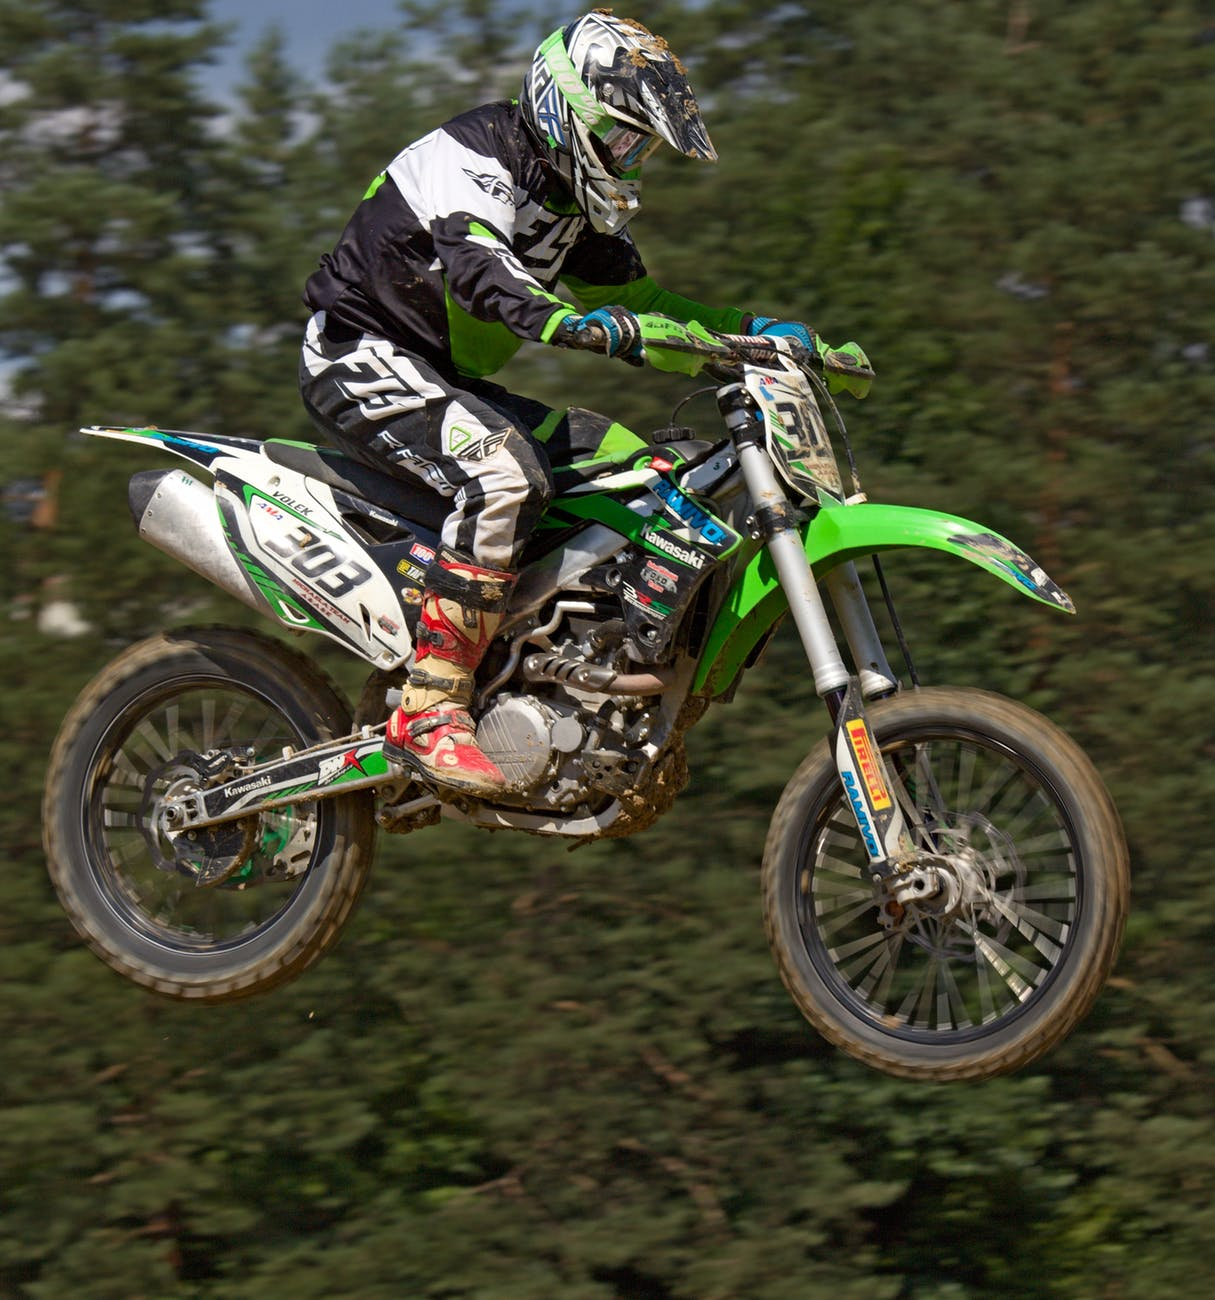helmet: (520, 19, 700, 211)
